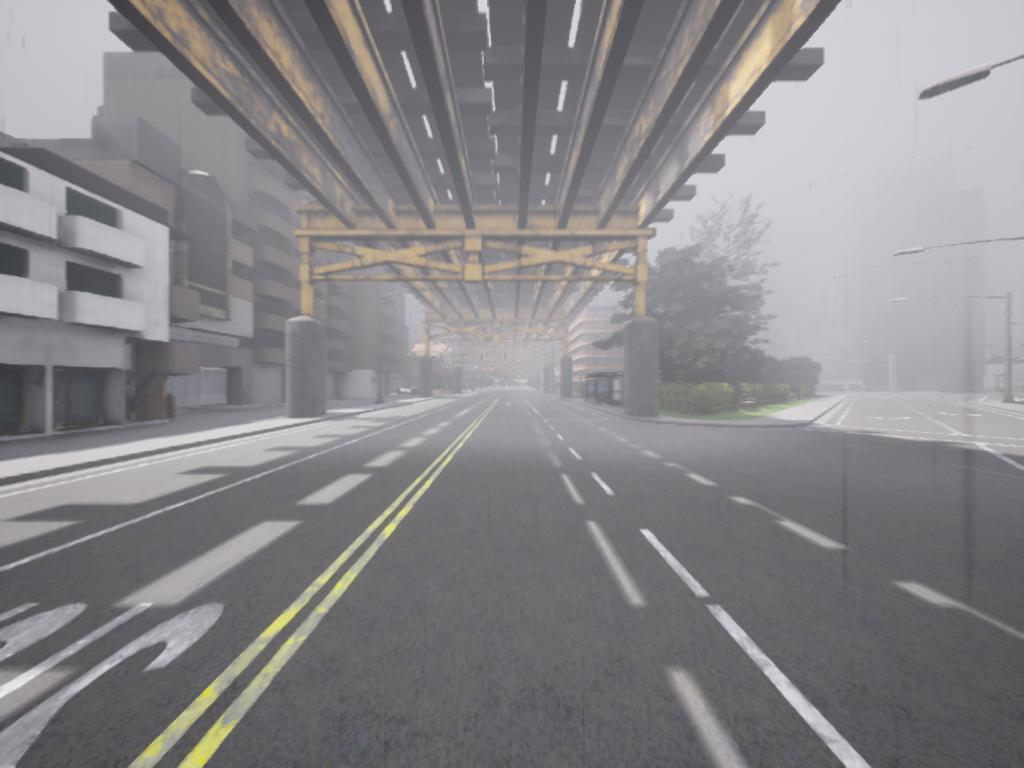traffic_light: (504, 354, 507, 363), (481, 355, 485, 361), (461, 356, 464, 363)
